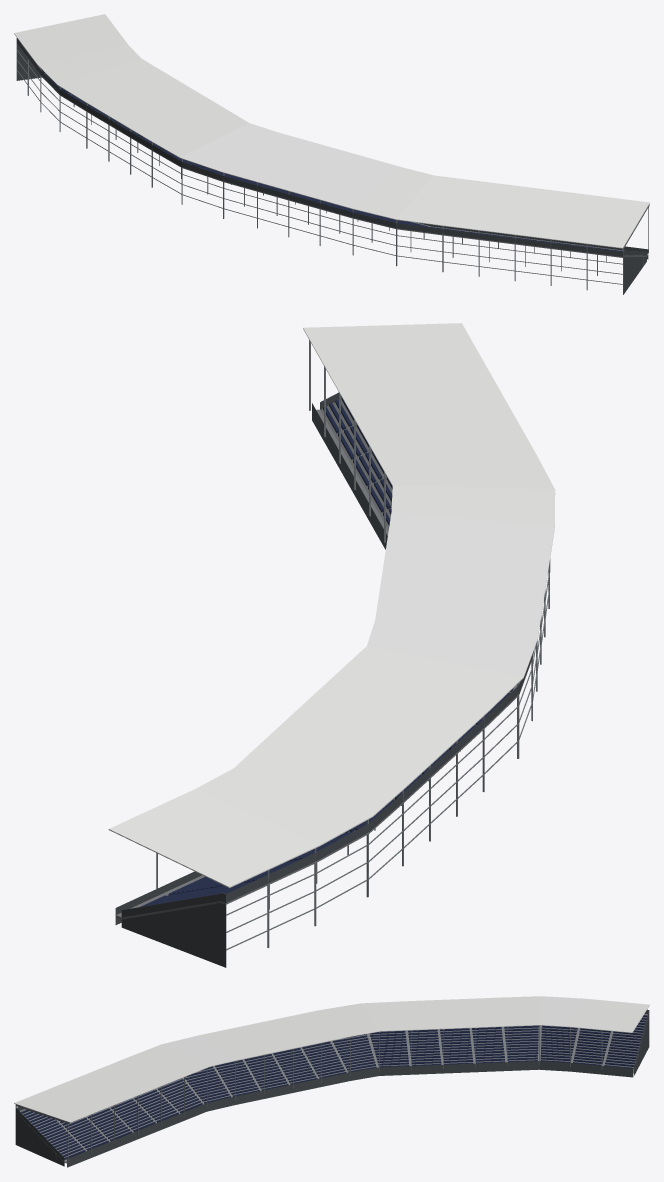
Rendered from sil_stand_club_corner.glb.
3 renders of one model, top to bottom at view 1: azimuth 30°, elevation 25°; view 2: azimuth 150°, elevation 25°; view 3: azimuth 270°, elevation 25°, orthographic. The views are drawn at different scales.
Visible parts, largest first — view 1: silverstone-club-corner; view 2: silverstone-club-corner; view 3: silverstone-club-corner.
Boxes of the visible parts, x1,y1,x2,y2 form: silverstone-club-corner: (14, 14, 649, 294); silverstone-club-corner: (108, 323, 555, 967); silverstone-club-corner: (14, 996, 649, 1167).
Bounding box in the file's own units: 78.34 × 12.96 × 160.
